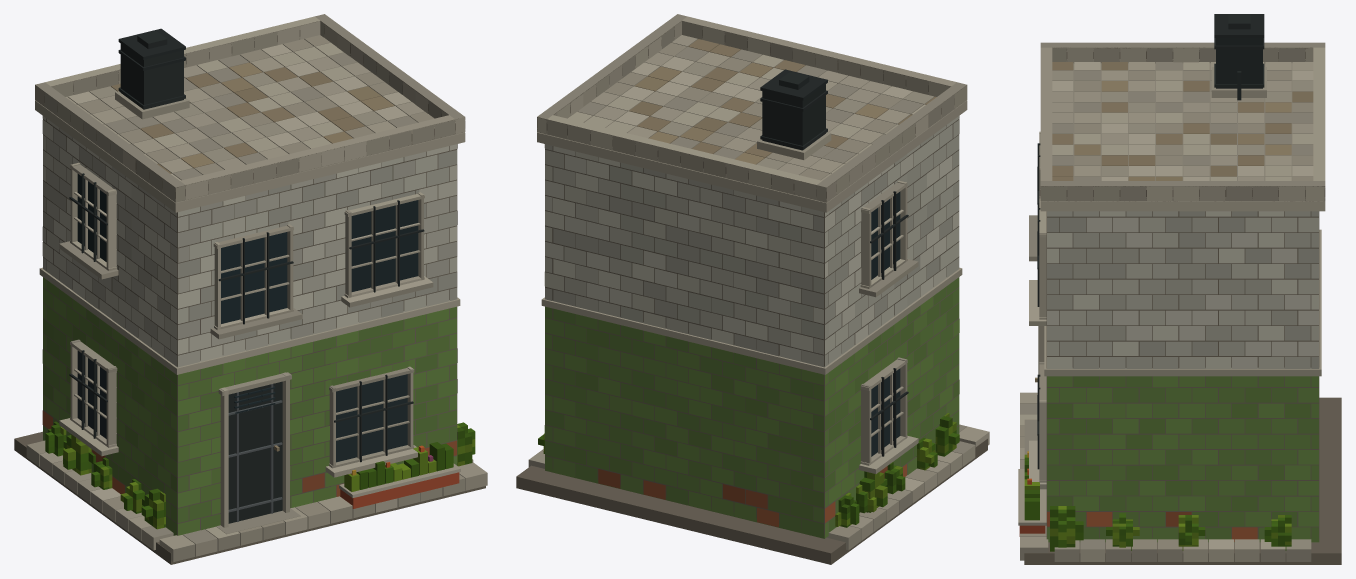
File: SM_Mapa_070.fbx
3 views of the same model, side by side, from view 1: azimuth 30°, elevation 25°; view 2: azimuth 150°, elevation 25°; view 3: azimuth 270°, elevation 25° (orthographic).
Parts seen in each view (by area): view 1: SM_Mapa_070; view 2: SM_Mapa_070; view 3: SM_Mapa_070.
Part boxes in pixels (<box>): SM_Mapa_070: <box>14,14,487,564</box>; SM_Mapa_070: <box>516,14,989,564</box>; SM_Mapa_070: <box>1018,14,1341,564</box>.
Bounding box in the file's own units: 8 × 6.84 × 10.12.
